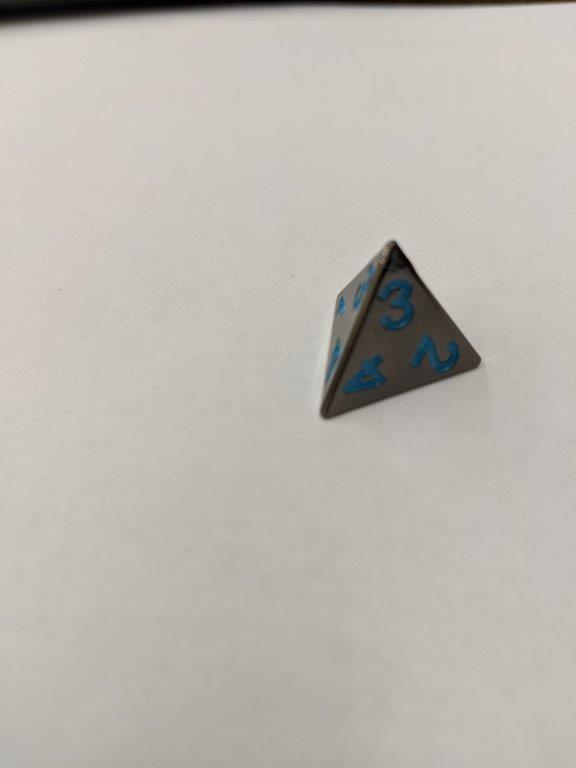d4-3: (316, 237, 492, 422)
